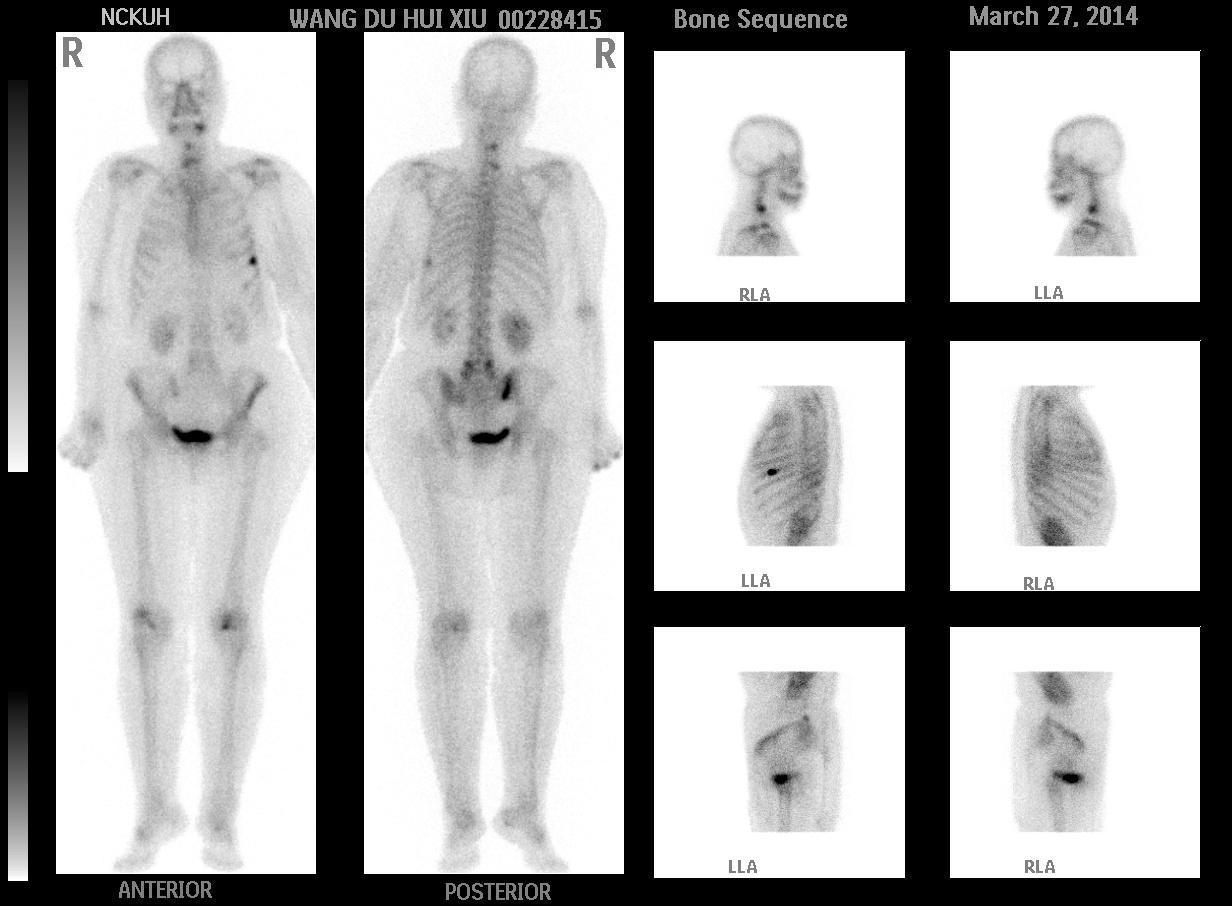person: (54, 30, 626, 875)
